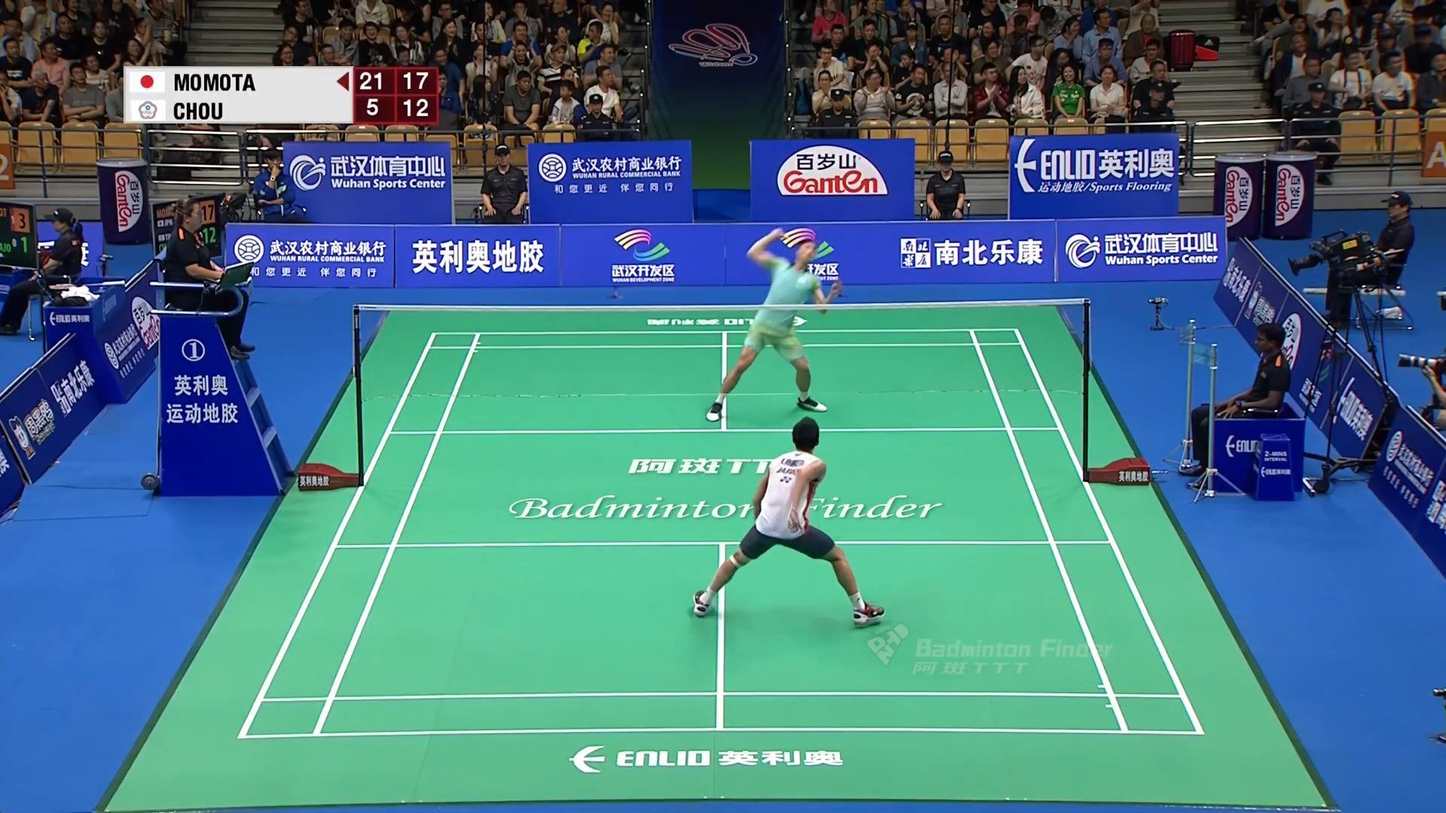player: (692, 418, 883, 627), (706, 228, 839, 423)
